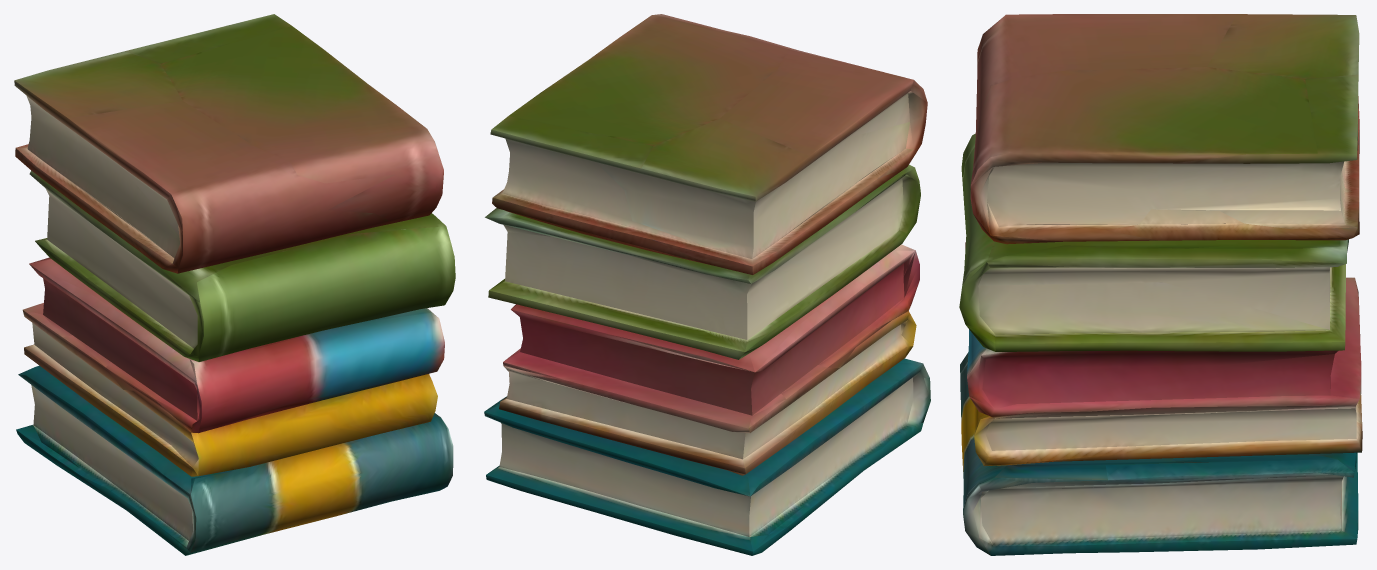
Rendered from m2BookStack.glb.
3 renders of one model, left to right at view 1: azimuth 30°, elevation 25°; view 2: azimuth 150°, elevation 25°; view 3: azimuth 270°, elevation 25°, orthographic. The views are drawn at different scales.
Parts seen in each view (by area): view 1: model; view 2: model; view 3: model.
Part boxes in pixels (x1,y1,x2,y2): model: [14, 14, 455, 555]; model: [484, 14, 930, 555]; model: [959, 14, 1362, 555].
Size of the model in its own units: 1.49 by 1.9 by 1.71.
1 material, 1 textured.
